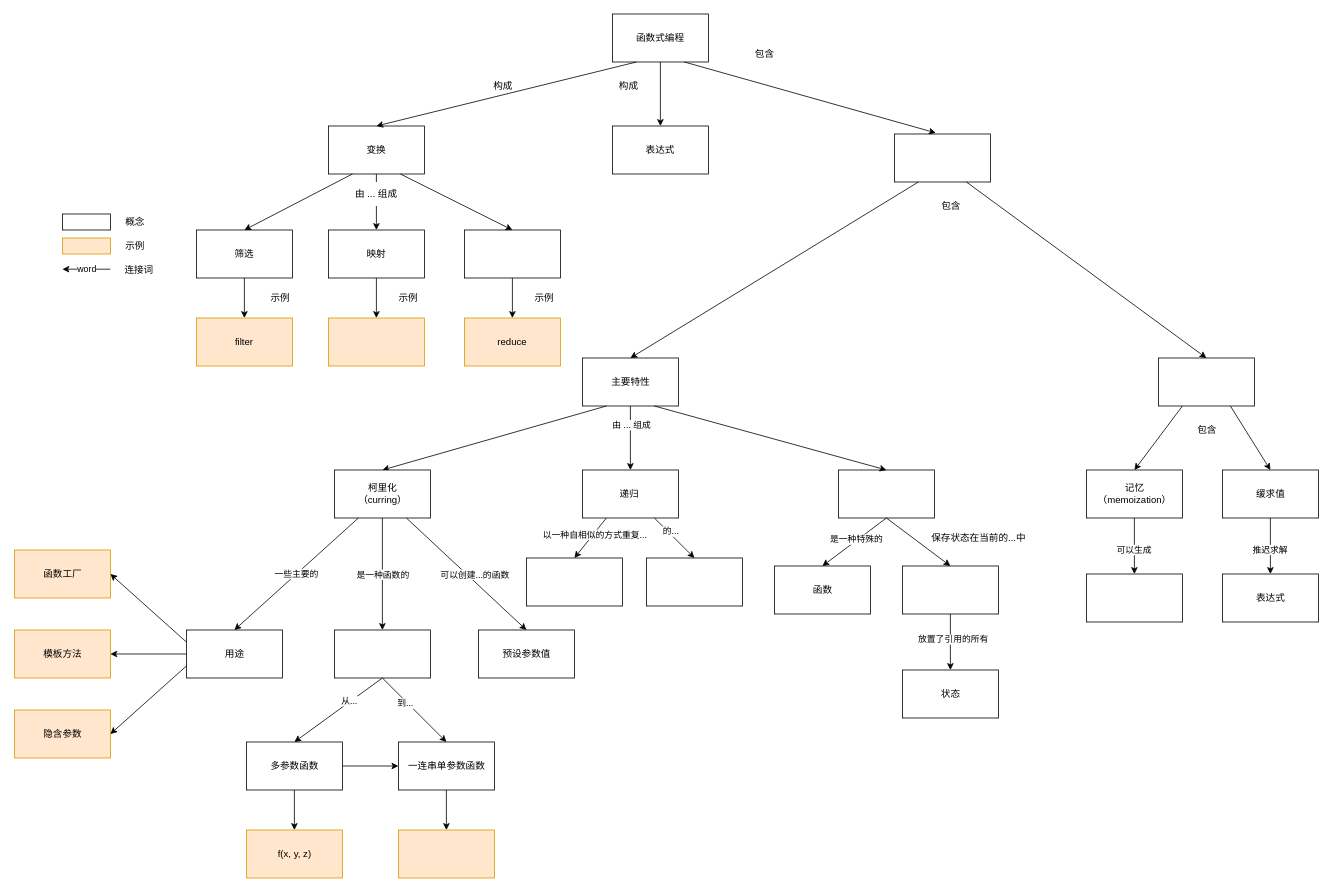
Some shapes in this 1332 by 892 pixel diagram are drawn without their labels. The box of each missing label's shape, as (x1, y1, x2, y2) in pixels:
f(x)(y)(z): (398, 829, 494, 878)
map: (328, 317, 424, 366)
上下文: (902, 565, 998, 614)
事物: (526, 557, 622, 606)
其它特性: (1158, 357, 1254, 406)
函数的缓存版本: (1086, 573, 1182, 622)
折叠: (464, 229, 560, 278)
特性: (894, 133, 990, 182)
转换: (334, 629, 430, 678)
过程: (646, 557, 742, 606)
闭包 （closure）: (838, 469, 934, 518)
